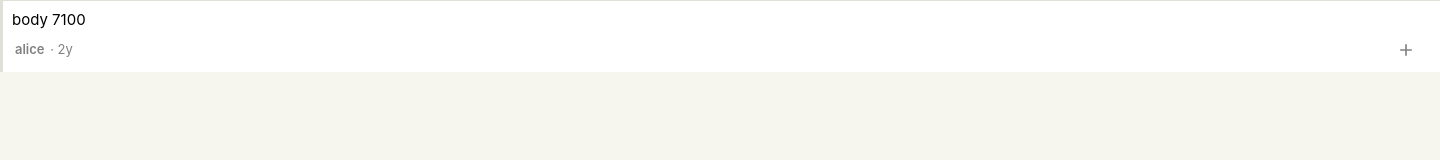
Test: <Comment> expand/collapse icon affordance › renders a +/- icon at the end of the toggle whose data-expanded flips on click
Expected: the text "body 7100" is shown, [12,10,86,29]
Expected: the icon with class "comment__toggle-icon" is shown, [1396,40,1416,60]
Click the button named "expand comment": (1406, 50) [1384,32,1428,68]
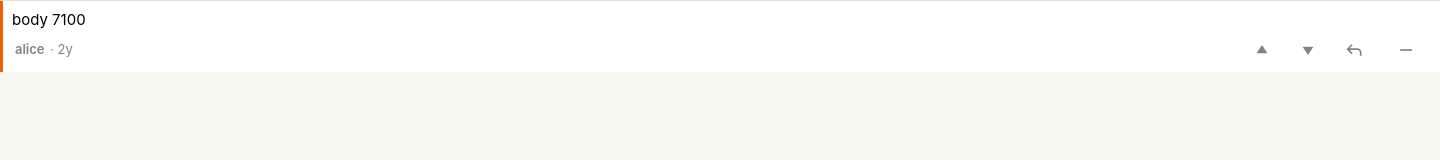
Result: the icon with class "comment__toggle-icon" has attribute data-expanded="true" at [1396,40,1416,60]
